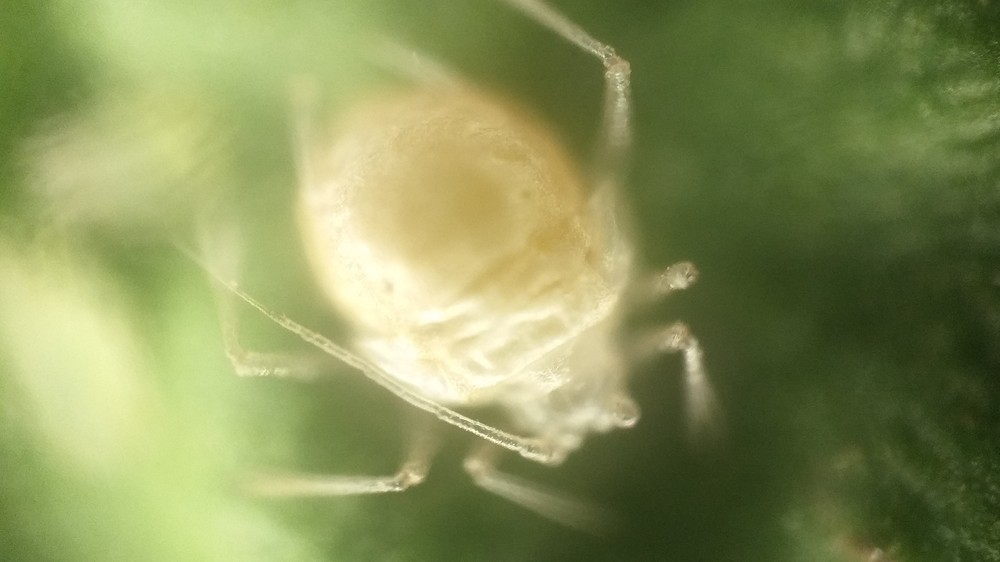Pulgon: (182, 5, 758, 543)
